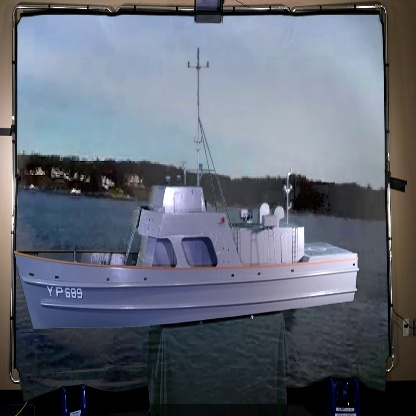YP689: (11, 44, 358, 335)
